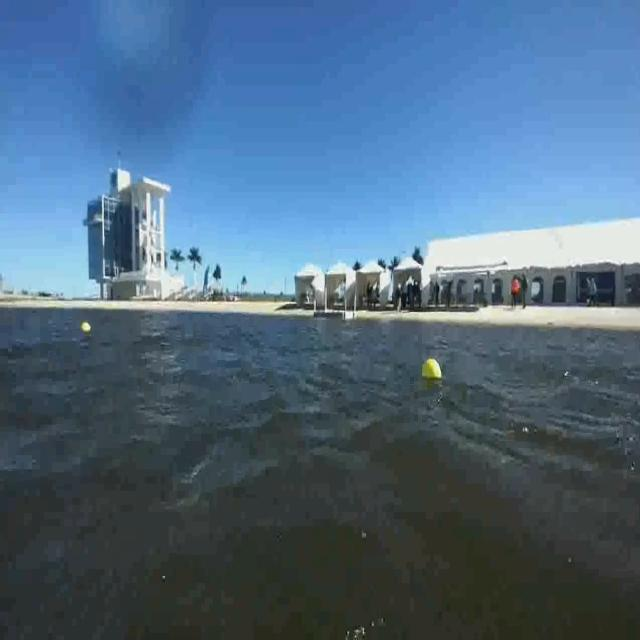yellow-buoy: (421, 357, 442, 379), (80, 318, 92, 336)
